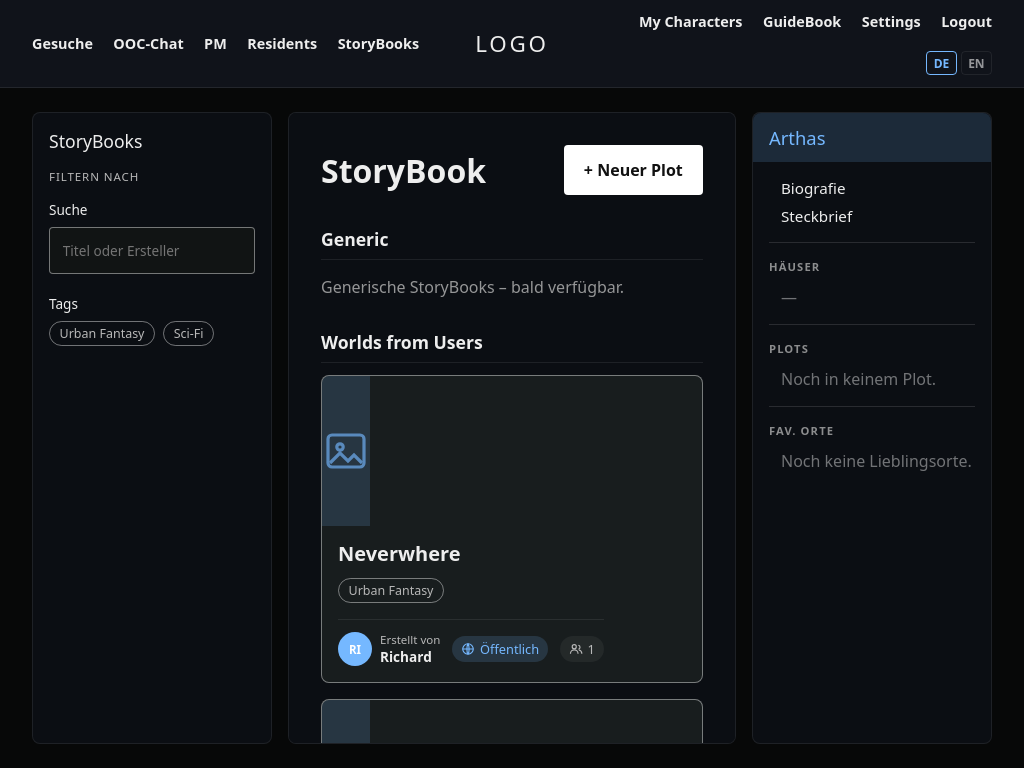
filters the list by selecting a tag chip
This screenshot has width=1024, height=768.
What coordinates should you click on to do the following:
click the button "Sci-Fi"
I would click on:
 (189, 334)
Its box is [163,321,214,346].
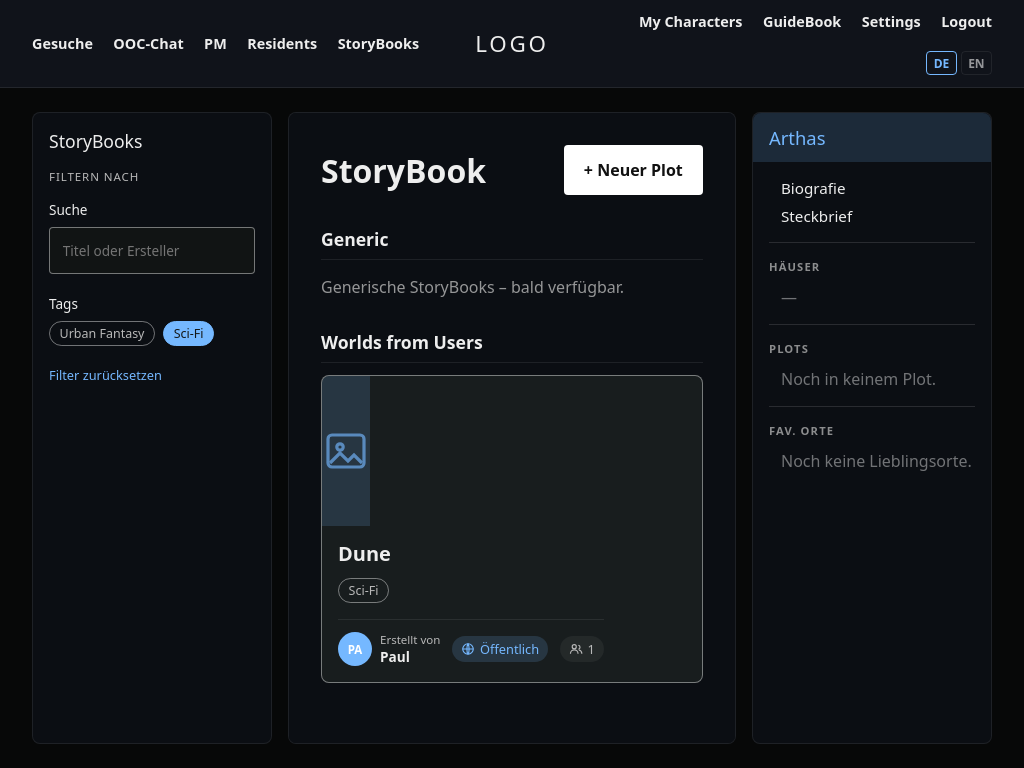
Check: the button "Neverwhere" is gone
Check: the heading "Dune" is shown, box [338,540,391,567]
Note: Clearing filters restores the full list.
What coordinates should you click on to do the following:
click the button "Filter zurücksetzen"
I would click on:
 (105, 375)
Its box is [49,366,162,384].
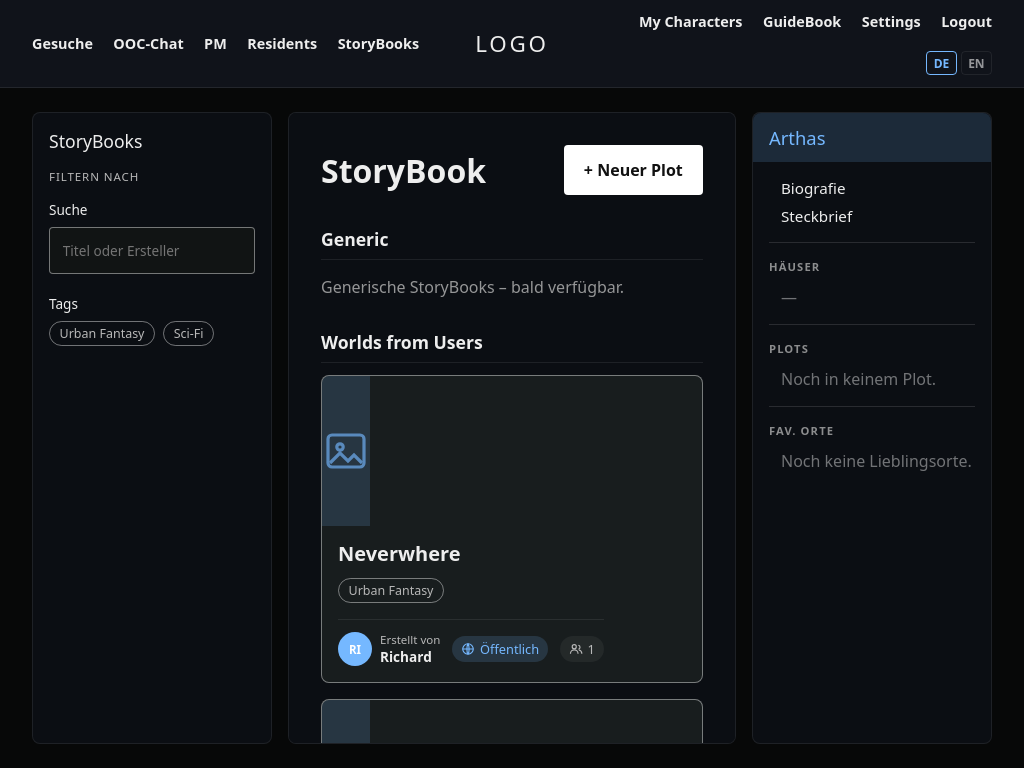
Check: the heading "Neverwhere" is shown, box [338,540,460,567]
